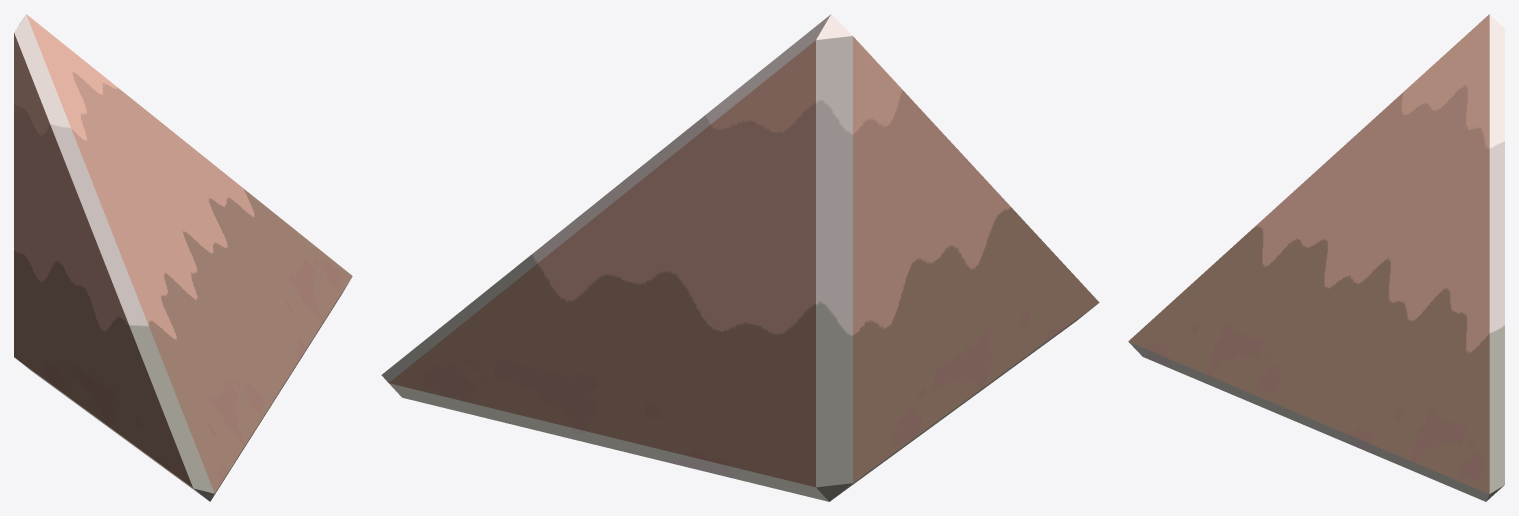
The model's file is R4B_Tetra_LOD1.glb.
3 views of the same model, side by side, from view 1: azimuth 30°, elevation 25°; view 2: azimuth 150°, elevation 25°; view 3: azimuth 270°, elevation 25° (orthographic). The views are drawn at different scales.
Parts seen in each view (by area): view 1: R4B_Tetra_LOD1; view 2: R4B_Tetra_LOD1; view 3: R4B_Tetra_LOD1.
Boxes of the visible parts, x1=… form: R4B_Tetra_LOD1: x1=14, y1=14, x2=352, y2=501; R4B_Tetra_LOD1: x1=381, y1=14, x2=1099, y2=501; R4B_Tetra_LOD1: x1=1128, y1=14, x2=1504, y2=501.
Size of the model in its own units: 0.4808 by 0.4808 by 0.4808.
Materials: 2 (2 with a texture image).
